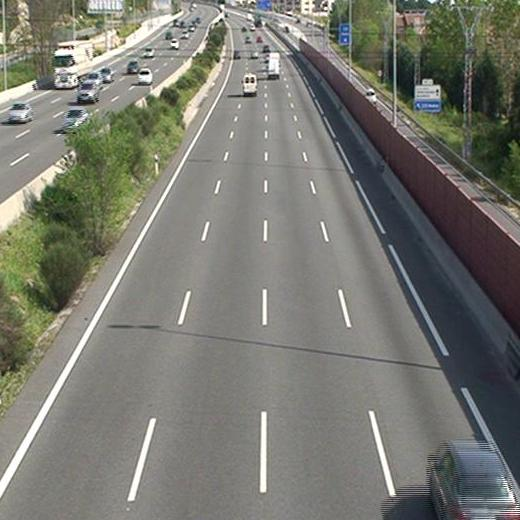car: (429, 445, 519, 520)
van: (267, 53, 280, 78), (242, 74, 258, 94)
